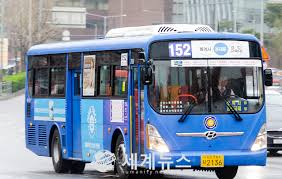bnum: (168, 42, 191, 57)
